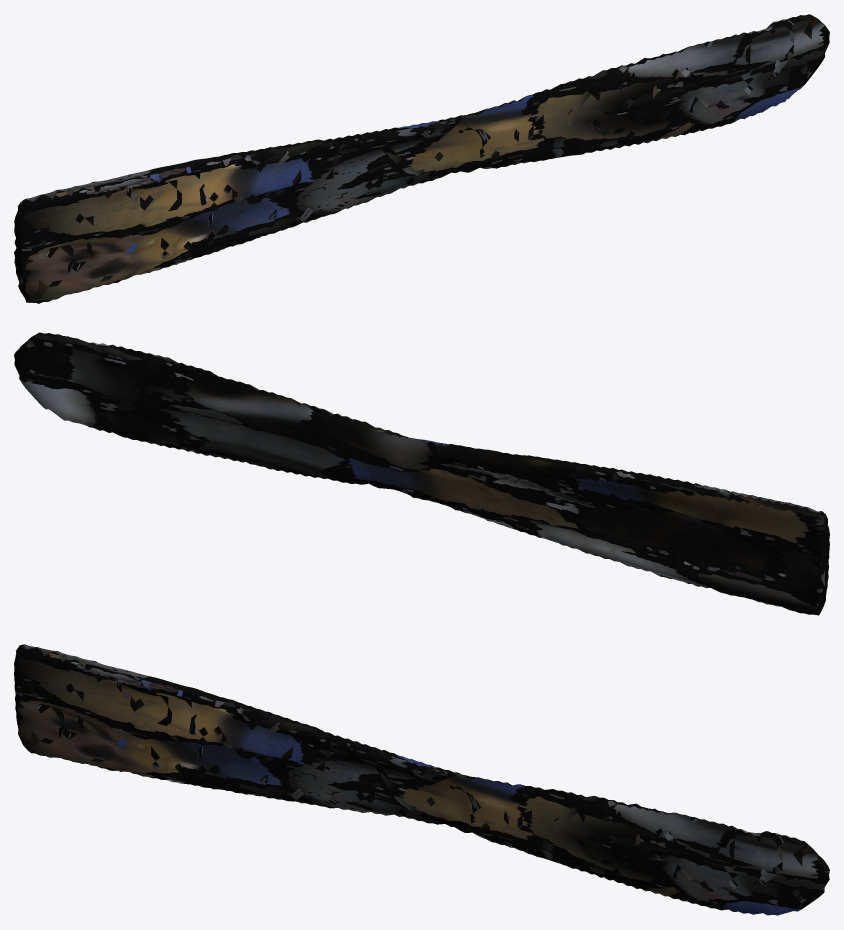
The model's file is refine_init_mesh_cutlery-knife_1.obj.
3 renders of one model, top to bottom at view 1: azimuth 30°, elevation 25°; view 2: azimuth 150°, elevation 25°; view 3: azimuth 330°, elevation 25°, orthographic.
Size of the model in its own units: 0.5626 by 0.0706 by 0.0129.
